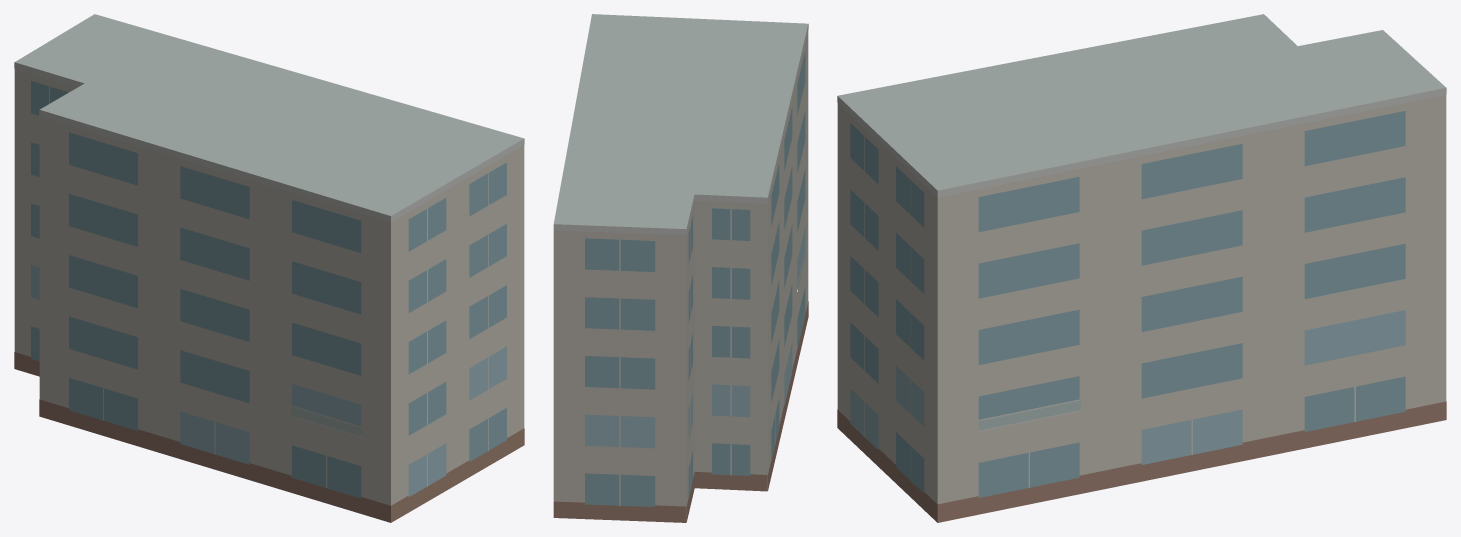
Rendered from survey-upis-32894550.glb.
3 views of the same model, side by side, from view 1: azimuth 30°, elevation 25°; view 2: azimuth 150°, elevation 25°; view 3: azimuth 270°, elevation 25° (orthographic). The views are drawn at different scales.
Visible parts, largest first — view 1: survey-upis-32894550.tmp; view 2: survey-upis-32894550.tmp; view 3: survey-upis-32894550.tmp.
Part boxes in pixels (box(x1,y1,x2,y2)): survey-upis-32894550.tmp: box(14, 14, 524, 522); survey-upis-32894550.tmp: box(553, 14, 808, 522); survey-upis-32894550.tmp: box(837, 14, 1446, 522).
Bounding box in the file's own units: 13.35 × 11.7 × 19.45.
